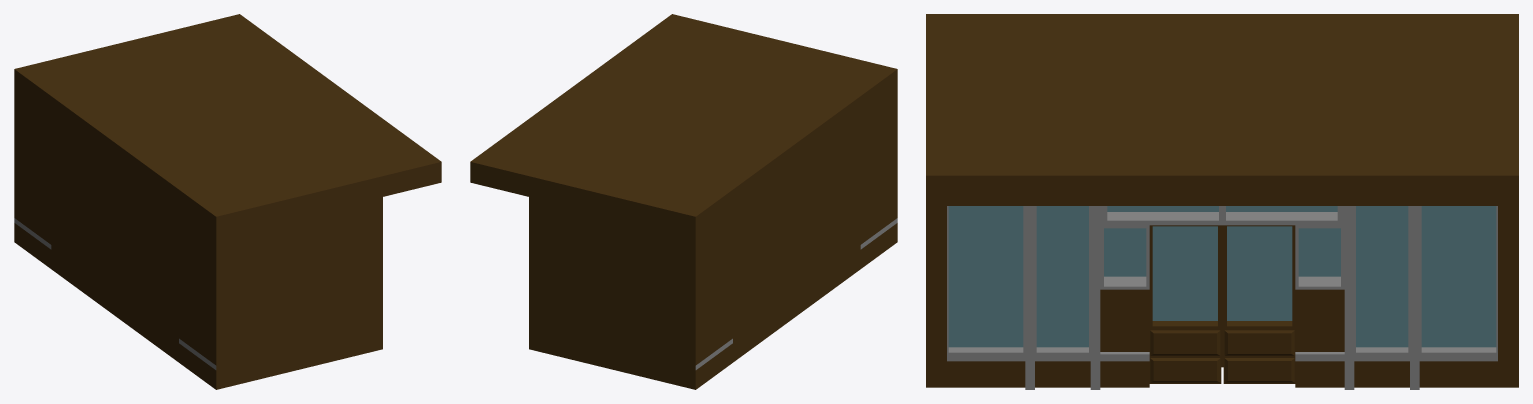
The model's file is Store1a.fbx.
3 renders of one model, left to right at view 1: azimuth 30°, elevation 25°; view 2: azimuth 150°, elevation 25°; view 3: azimuth 270°, elevation 25°, orthographic. The views are drawn at different scales.
Visible parts, largest first — view 1: Store1a; view 2: Store1a; view 3: Store1a.
Boxes of the visible parts, <box> form: Store1a: <box>14,14,441,389</box>; Store1a: <box>470,14,897,389</box>; Store1a: <box>926,14,1518,389</box>.
Size of the model in its own units: 325 by 239 by 505.
